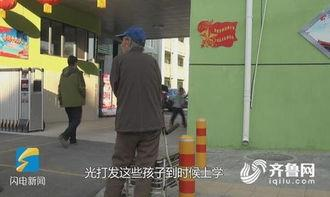up: (98, 25, 168, 195), (51, 52, 89, 149)
